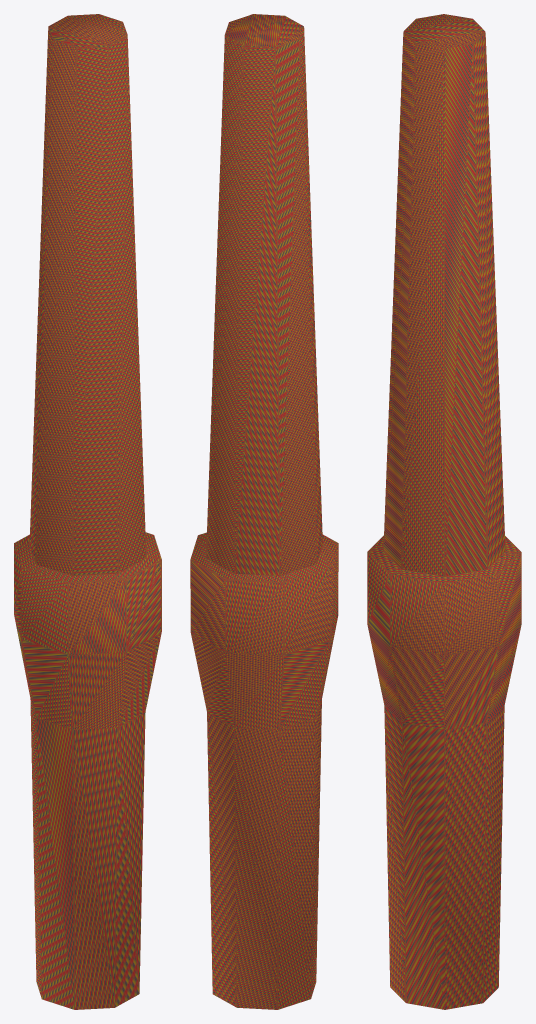
Rendered from ralt_probe.gltf.
3 renders of one model, left to right at view 1: azimuth 30°, elevation 25°; view 2: azimuth 150°, elevation 25°; view 3: azimuth 270°, elevation 25°, orthographic.
Parts seen in each view (by area): view 1: Stick_Right, Stick_Left; view 2: Stick_Right, Stick_Left; view 3: Stick_Left, Stick_Right.
Part boxes in pixels (box(x1,y1,x2,y2)): Stick_Right: box(68, 36, 161, 1009); Stick_Left: box(14, 14, 161, 1009); Stick_Right: box(190, 36, 284, 1009); Stick_Left: box(190, 14, 338, 1009); Stick_Left: box(368, 14, 520, 1009); Stick_Right: box(367, 32, 521, 1002).
Size of what is drawn, in the model's own units: 0.0553 by 0.3812 by 0.0558.
